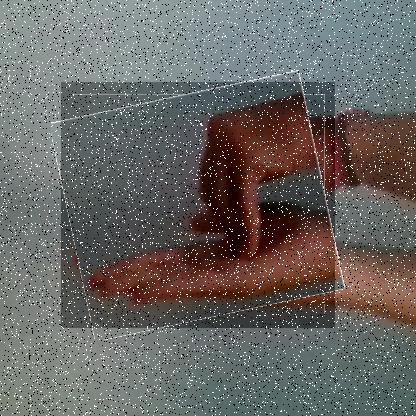Z: (60, 82, 335, 329)
